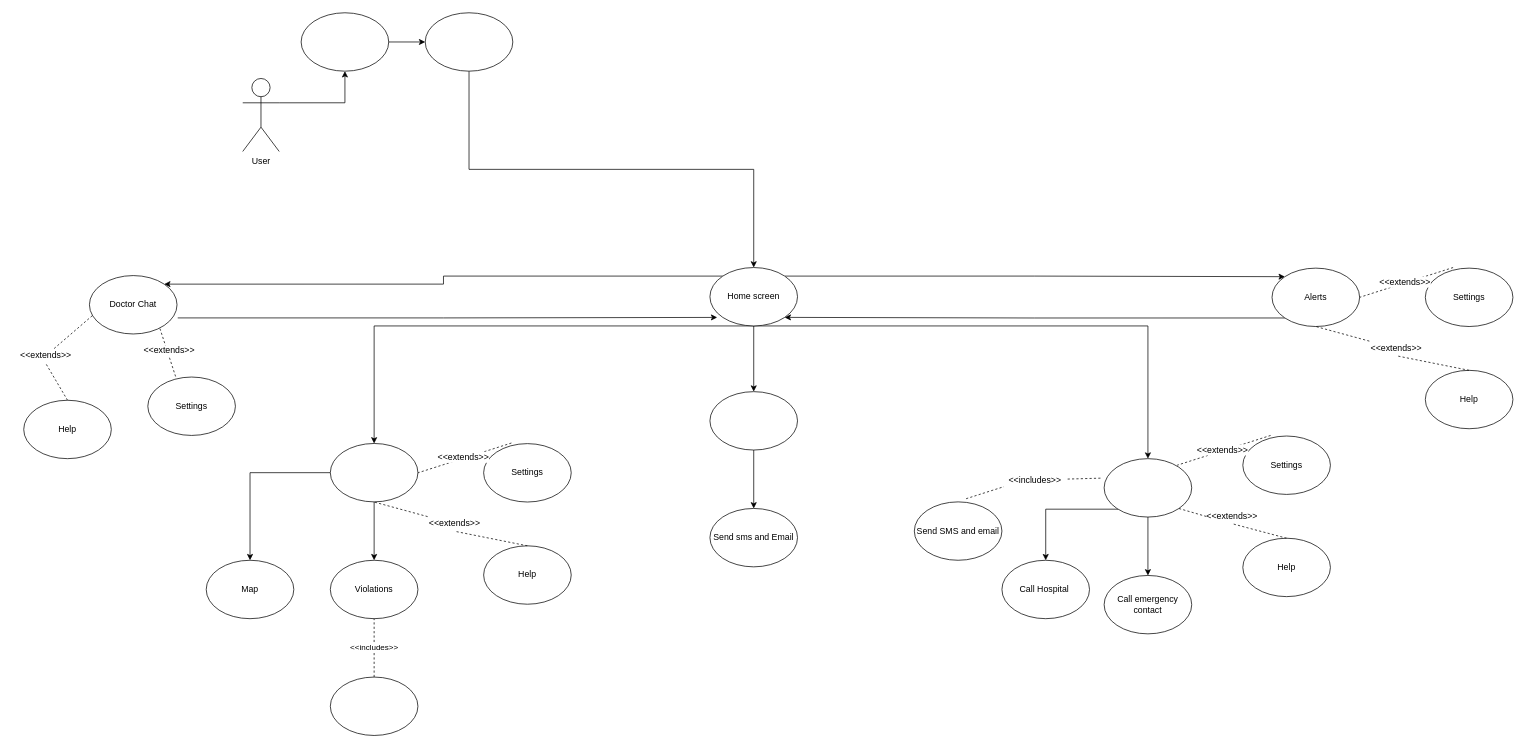
Image size: 1526x748. Some labels were removed from this diagram. The shapes that lost their labels are listed below. From the top down, each one's box as (x1, y1, x2, y2) in pixels, then its label:
(300, 12, 389, 71): Sign In with Google
(424, 12, 513, 71): Verify fingerprint
(709, 391, 798, 450): Panic Button
(330, 443, 418, 502): Driving mode
(1103, 458, 1192, 517): Disability Mode
(330, 676, 418, 735): Violation details
